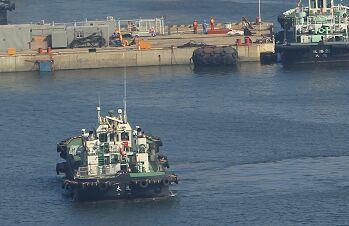otherboat: (46, 88, 180, 202)
